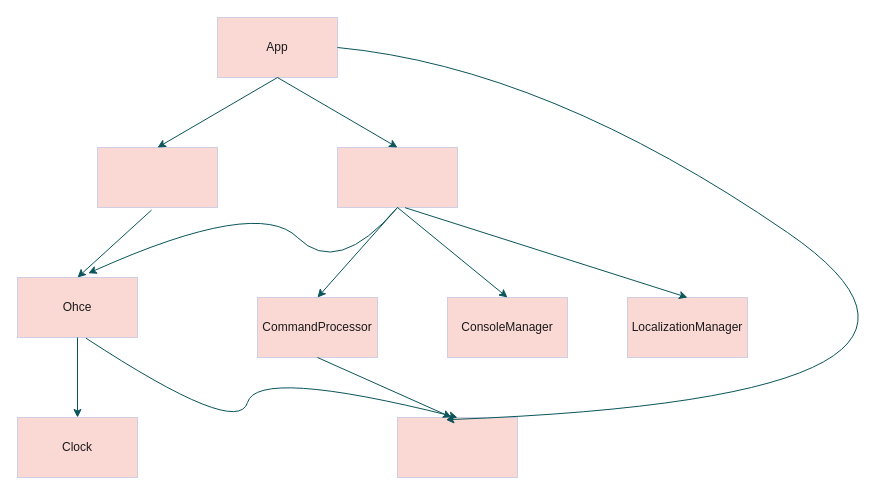
Some shapes in this 876 by 495 pixel diagram are drawn without their labels. Here are the shapes that lost their labels. From the top down, the centre of each, then its label:
At (157,177): "ApiInterface".
At (397,177): "ConsoleInterface".
At (457,447): "Translator".
